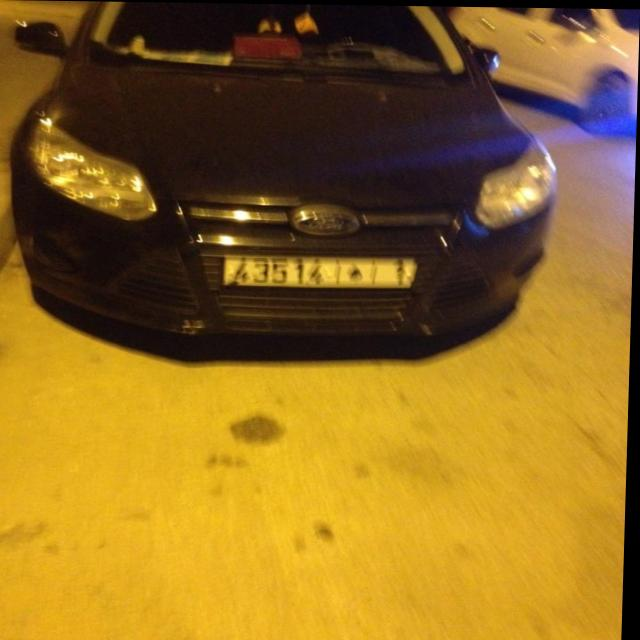License-Plate: (225, 255, 419, 287)
